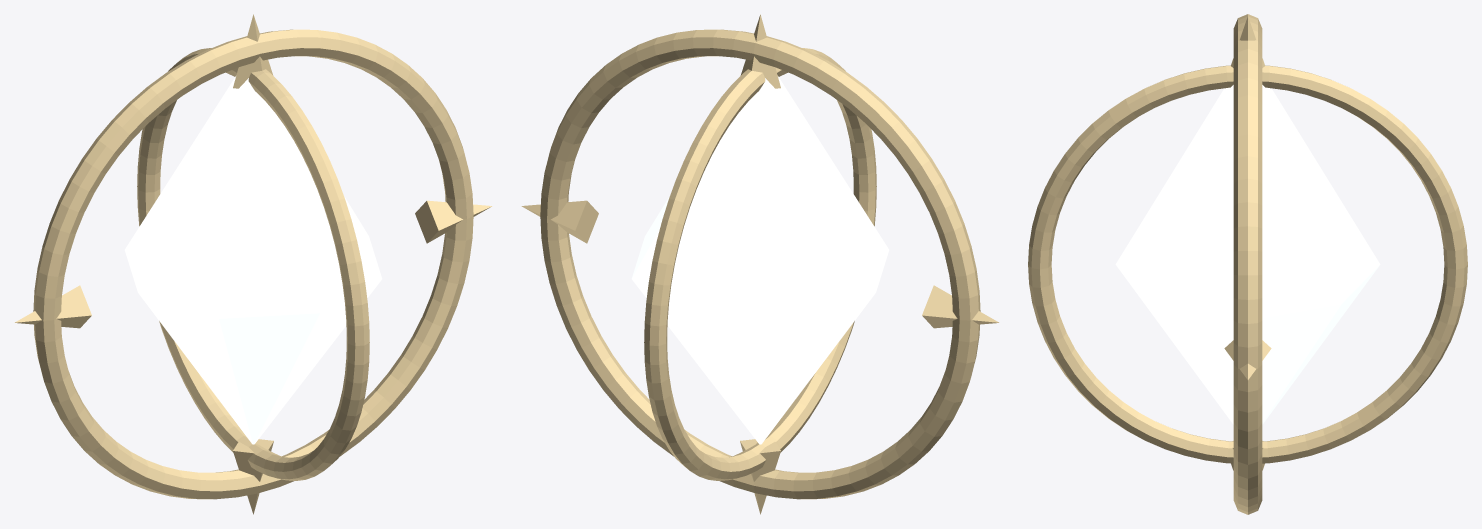
File: relic.glb
The picture shows the model from 3 angles, left to right: view 1: azimuth 30°, elevation 25°; view 2: azimuth 150°, elevation 25°; view 3: azimuth 270°, elevation 25°; orthographic projection.
Visible parts, largest first — view 1: Cone; view 2: Cone; view 3: Cone.
Part boxes in pixels (x1=…): Cone: x1=14, y1=14, x2=492, y2=514; Cone: x1=521, y1=14, x2=999, y2=514; Cone: x1=1028, y1=14, x2=1467, y2=514.
Bounding box in the file's own units: 1.16 × 1.16 × 0.93.
